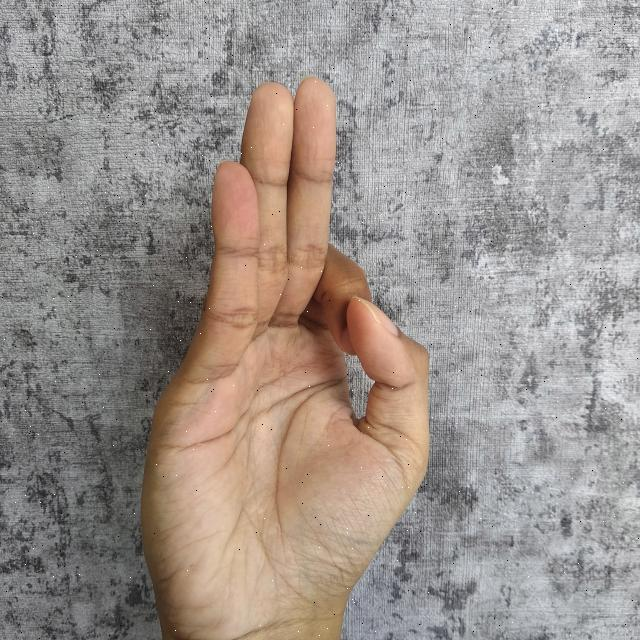F: (147, 77, 434, 640)
